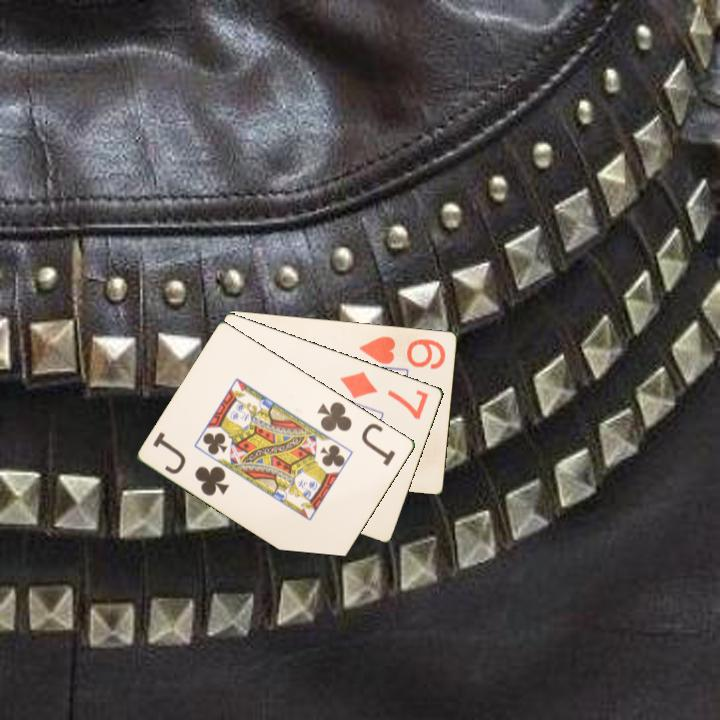6h: (356, 332, 449, 371)
7d: (337, 367, 432, 422)
Jc: (314, 398, 399, 469), (149, 428, 233, 499)
